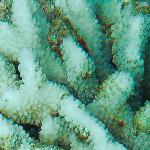dead: (6, 5, 147, 146)
